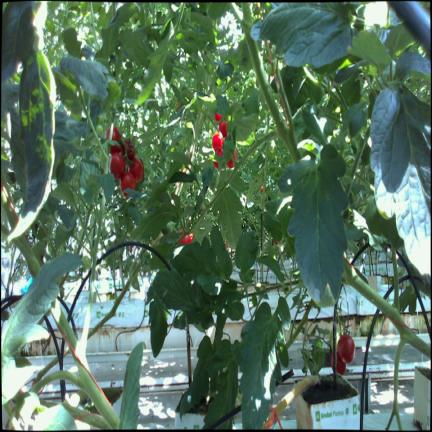6kp_peduncle: (40, 353, 104, 408), (393, 314, 424, 379)
6kp_petiole: (59, 292, 96, 392), (251, 99, 298, 157), (377, 262, 408, 336), (273, 86, 302, 159)
MainStem: (241, 2, 301, 163), (49, 299, 120, 430), (343, 257, 431, 359), (89, 261, 143, 338)
tomato: (337, 334, 355, 362), (109, 152, 125, 179), (105, 126, 120, 153), (120, 172, 135, 197), (129, 158, 143, 182), (331, 354, 346, 374), (212, 131, 223, 156), (125, 140, 135, 161), (179, 233, 193, 244), (219, 122, 227, 138), (227, 158, 234, 168), (215, 113, 221, 122), (213, 161, 218, 167)
